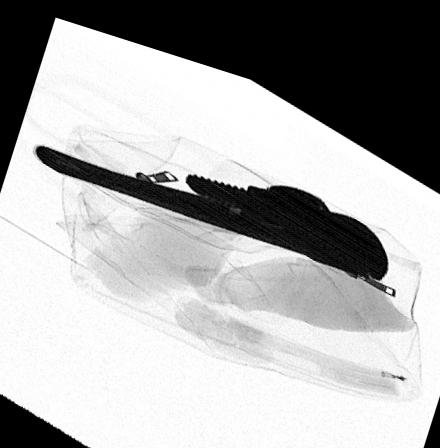Wrench: (31, 141, 391, 259)
